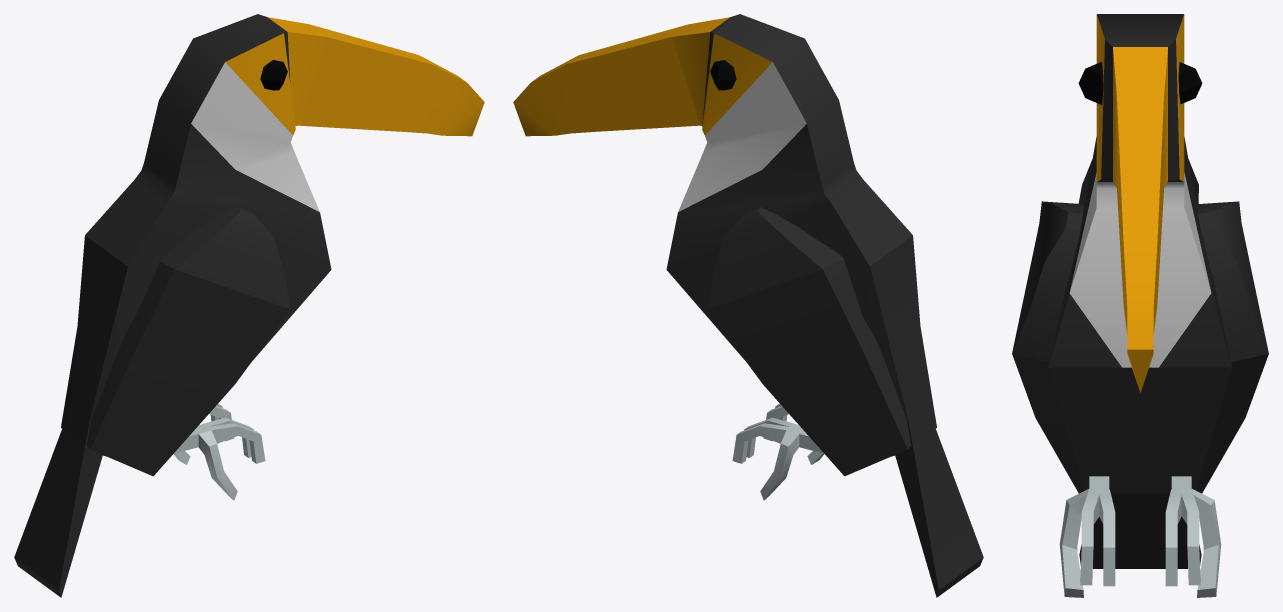
Rendered from Tukan.fbx.
3 renders of one model, left to right at view 1: azimuth 30°, elevation 25°; view 2: azimuth 150°, elevation 25°; view 3: azimuth 270°, elevation 25°, orthographic. The views are drawn at different scales.
Parts seen in each view (by area): view 1: pPyramid1, pCube2, pCube5, pSphere2; view 2: pPyramid1, pCube3, pCube6, pSphere3; view 3: pPyramid1, pCube2, pCube3, pCube5, pCube6, pSphere2, pSphere3.
Boxes of the visible parts, <box> form: pPyramid1: <box>14,14,484,597</box>; pCube2: <box>86,207,290,476</box>; pCube5: <box>174,417,265,500</box>; pSphere2: <box>260,60,287,90</box>; pPyramid1: <box>513,14,983,597</box>; pCube3: <box>707,207,911,476</box>; pCube6: <box>732,417,823,500</box>; pSphere3: <box>710,60,736,90</box>; pPyramid1: <box>1048,14,1232,568</box>; pCube2: <box>1012,201,1084,493</box>; pCube3: <box>1196,201,1268,493</box>; pCube5: <box>1059,476,1115,597</box>; pCube6: <box>1165,476,1221,597</box>; pSphere2: <box>1078,62,1103,104</box>; pSphere3: <box>1178,62,1202,103</box>.
Size of the model in its own units: 10.53 by 11.39 by 3.88.
